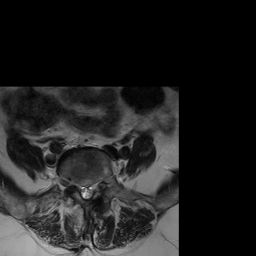CCS_stenosis: (83, 178, 88, 203)
LFS_normal: (94, 175, 100, 196)
LLS_normal: (88, 177, 94, 202)
RFS_stenosis: (72, 175, 78, 192)
RLS_normal: (78, 178, 83, 201)
